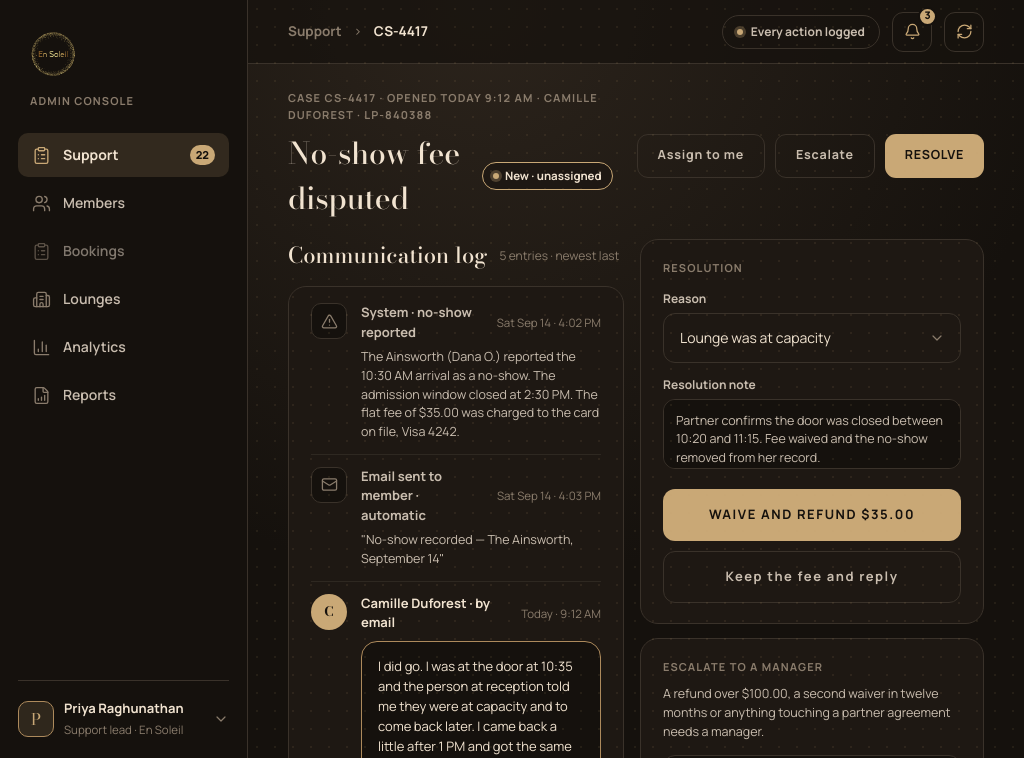
Test: Case detail (/admin/support/[id]) › assigns the case to the current agent
This screenshot has width=1024, height=758.
What coordinates should you click on to do the following:
click the button "Assign to me"
I would click on:
 (701, 156)
Its box is 637,134 -> 765,178.
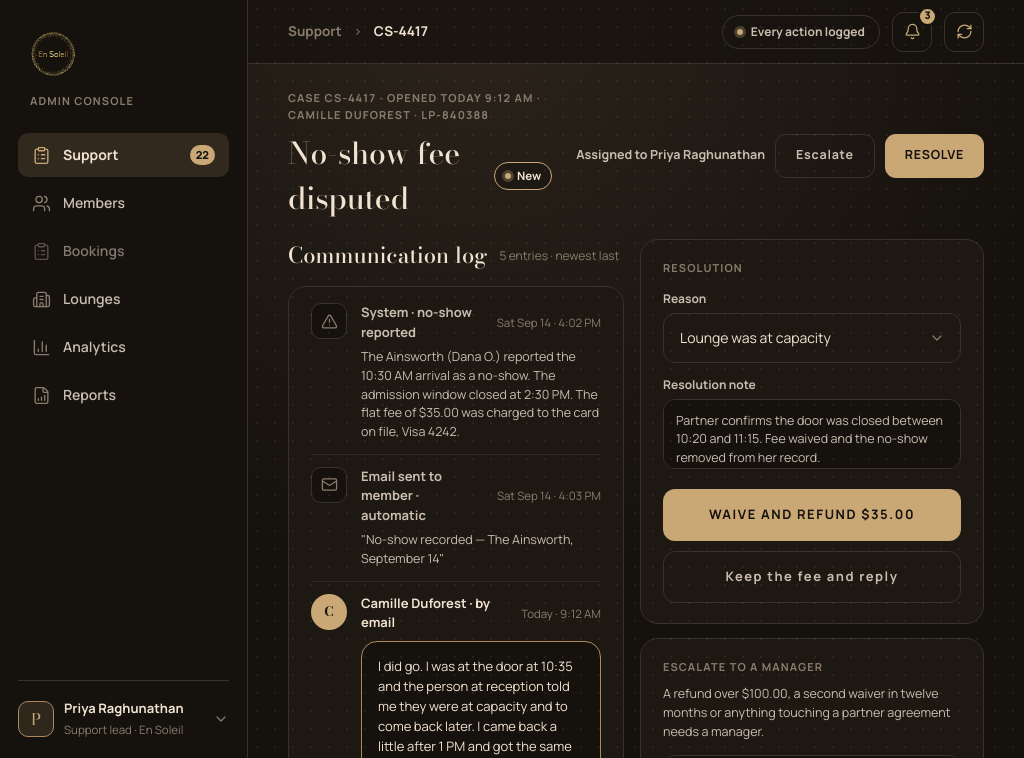
Result: the text "Assigned to Priya Raghunathan" is shown at 576,146 -> 765,165
